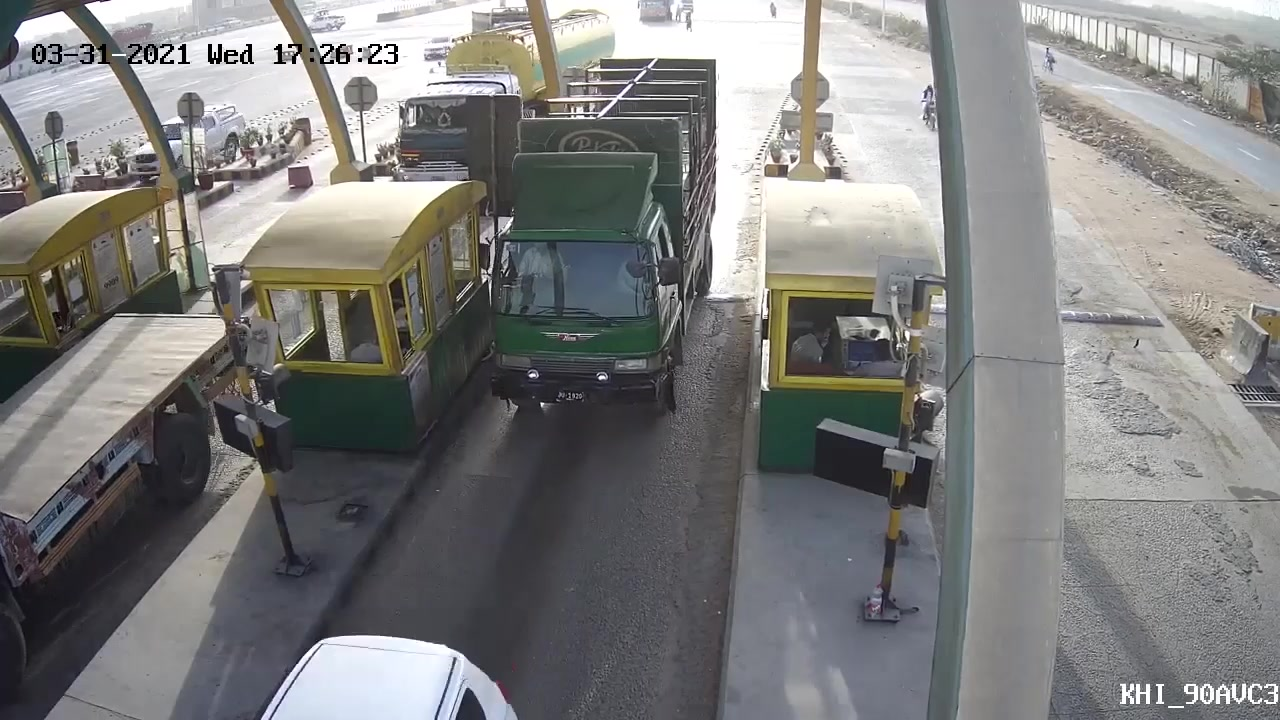F5: (472, 55, 725, 413)
